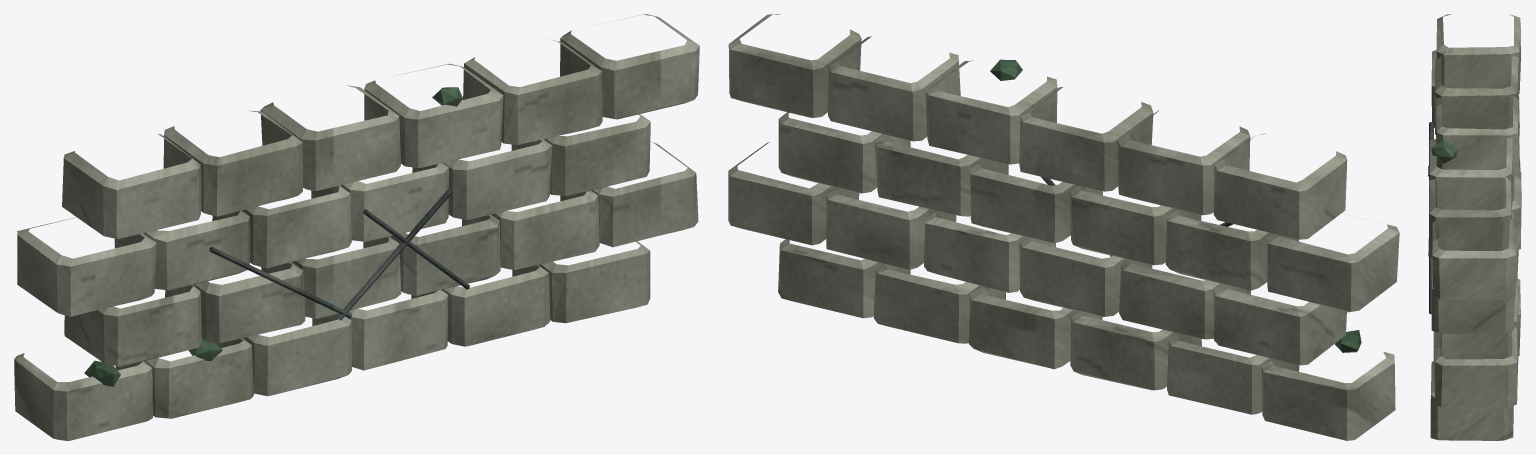
File: 0327_wall_section_02.glb
3 renders of one model, left to right at view 1: azimuth 30°, elevation 25°; view 2: azimuth 150°, elevation 25°; view 3: azimuth 270°, elevation 25°, orthographic. The views are drawn at different scales.
Parts seen in each view (by area): view 1: stone_light, iron, moss; view 2: stone_light, moss; view 3: stone_light, moss, iron.
Part boxes in pixels (x1,y1,x2,y2): stone_light: (14,14,699,440); iron: (209,189,469,320); moss: (84,87,462,386); stone_light: (728,14,1399,440); moss: (990,59,1361,352); stone_light: (1428,14,1521,440); moss: (1428,139,1456,176); iron: (1429,122,1433,314).
Bounding box in the file's own units: 4 × 1.57 × 0.6011.
3 materials, 3 textured.
